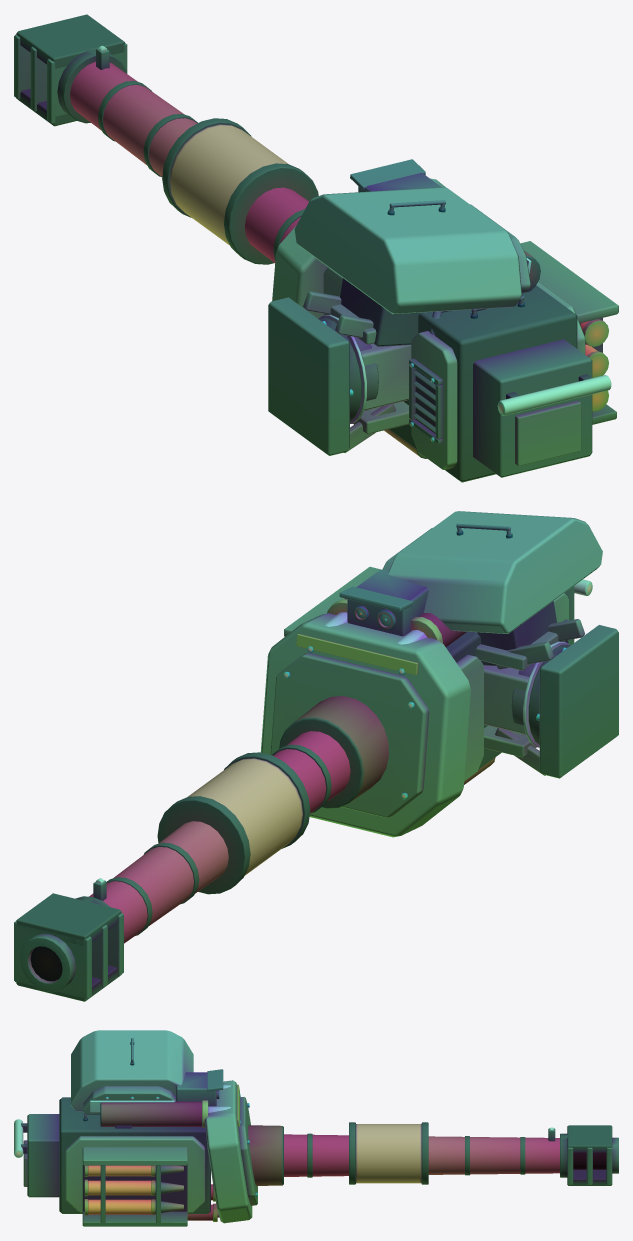
File: arm_cannon.glb
The picture shows the model from 3 angles, top to bottom: view 1: azimuth 30°, elevation 25°; view 2: azimuth 150°, elevation 25°; view 3: azimuth 270°, elevation 25°; orthographic projection. The views are drawn at different scales.
Visible parts, largest first — view 1: Body__armor, Body__gunmetal, Body__dark, Body__armor_sub, Body__chrome, Body__brass, Body__armor_dark; view 2: Body__armor, Body__armor_sub, Body__dark, Body__gunmetal, Body__armor_dark, Body__chrome, Body__accent, Body__bore, Body__brass; view 3: Body__armor, Body__dark, Body__armor_sub, Body__gunmetal, Body__brass, Body__armor_dark, Body__chrome, Body__bore, Body__hazard, Body__accent.
Boxes of the visible parts, box(x1,y1,x2,y2) form: Body__armor: box(169, 124, 585, 469); Body__gunmetal: box(14, 34, 616, 477); Body__dark: box(16, 14, 591, 482); Body__armor_sub: box(70, 62, 618, 466); Body__chrome: box(98, 45, 611, 442); Body__brass: box(580, 319, 608, 411); Body__armor_dark: box(358, 172, 441, 192); Body__armor: box(188, 511, 602, 875); Body__armor_sub: box(89, 528, 584, 943); Body__dark: box(16, 530, 574, 1001); Body__gunmetal: box(14, 523, 618, 999); Body__armor_dark: box(347, 569, 428, 636); Body__chrome: box(96, 579, 592, 883); Body__accent: box(296, 634, 418, 675); Body__bore: box(30, 946, 62, 981); Body__brass: box(327, 599, 442, 643); Body__armor: box(65, 1030, 421, 1223); Body__dark: box(21, 1042, 612, 1213); Body__armor_sub: box(23, 1086, 559, 1205); Body__gunmetal: box(27, 1038, 618, 1226); Body__brass: box(84, 1100, 217, 1221); Body__armor_dark: box(155, 1072, 216, 1213); Body__chrome: box(14, 1085, 553, 1217); Body__bore: box(573, 1152, 606, 1169); Body__hazard: box(90, 1100, 174, 1112); Body__accent: box(151, 1084, 239, 1214).
Bounding box in the file's own units: 1.29 × 1.16 × 4.15.
